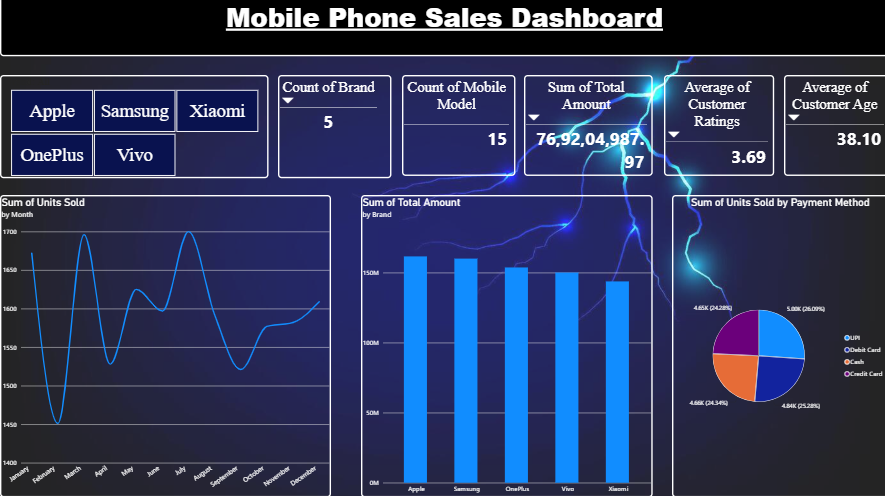

What the dashboard file says about the page in this screenshot:
{"tool":"powerbi","page":{"name":"Page 1","canvas":[1920,1080],"ordinal":0},"visuals":[{"type":"tableEx","fields":{"Values":["Sheet1.Brand"]},"box":[600,167.5,245,222.5],"z":0},{"type":"tableEx","fields":{"Values":["Sheet1.Mobile Model"]},"box":[867.5,167.5,245,217.5],"z":1000},{"type":"tableEx","fields":{"Values":["Avg(Sheet1.Customer Ratings)"]},"box":[1435,167.5,237.5,217.5],"z":2000},{"type":"tableEx","fields":{"Values":["Sum(Sheet1.Total Amount)"]},"box":[1132.5,167.5,277.5,217.5],"z":3000},{"type":"slicer","fields":{"Values":["Sheet1.Brand"]},"box":[0,167.5,580,222.5],"z":4000},{"type":"textbox","box":[0,0,1920,127.5],"z":5000},{"type":"lineChart","fields":{"Category":["Sheet1.date.Variation.Date Hierarchy.Month"],"Y":["Sum(Sheet1.Units Sold)"]},"box":[0,427.5,715,652.5],"z":6000},{"type":"tableEx","fields":{"Values":["Avg(Sheet1.Customer Age)"]},"box":[1692.5,167.5,227.5,217.5],"z":7000},{"type":"clusteredColumnChart","fields":{"Category":["Sheet1.Brand"],"Y":["Sum(Sheet1.Total Amount)"]},"box":[780,427.5,630,652.5],"z":8000},{"type":"pieChart","fields":{"Y":["Sum(Sheet1.Units Sold)"],"Category":["Sheet1.Payment Method"]},"box":[1452.5,427.5,467.5,652.5],"z":9000}]}

Visuals, with their boxes in screenshot pixels (x1, y1, x2, y2), scaled from the page's 1920x1080 canvas onto the 885x496 screenshot:
tableEx - Sheet1.Brand: bbox=(277, 77, 389, 179)
tableEx - Sheet1.Mobile Model: bbox=(400, 77, 513, 177)
tableEx - Avg(Sheet1.Customer Ratings): bbox=(661, 77, 771, 177)
tableEx - Sum(Sheet1.Total Amount): bbox=(522, 77, 650, 177)
slicer - Sheet1.Brand: bbox=(0, 77, 267, 179)
textbox: bbox=(0, 0, 884, 59)
lineChart - Sheet1.date.Variation.Date Hierarchy.Month x Sum(Sheet1.Units Sold): bbox=(0, 196, 330, 495)
tableEx - Avg(Sheet1.Customer Age): bbox=(780, 77, 884, 177)
clusteredColumnChart - Sheet1.Brand x Sum(Sheet1.Total Amount): bbox=(360, 196, 650, 495)
pieChart - Sum(Sheet1.Units Sold) x Sheet1.Payment Method: bbox=(670, 196, 884, 495)
